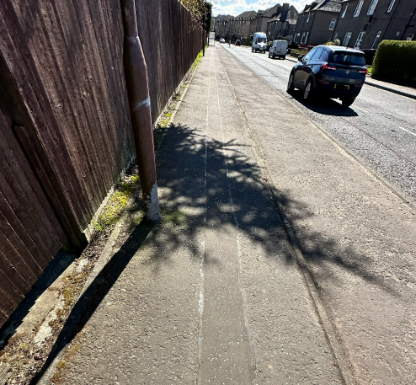car: (288, 42, 382, 118), (248, 29, 269, 54), (269, 37, 291, 60)
